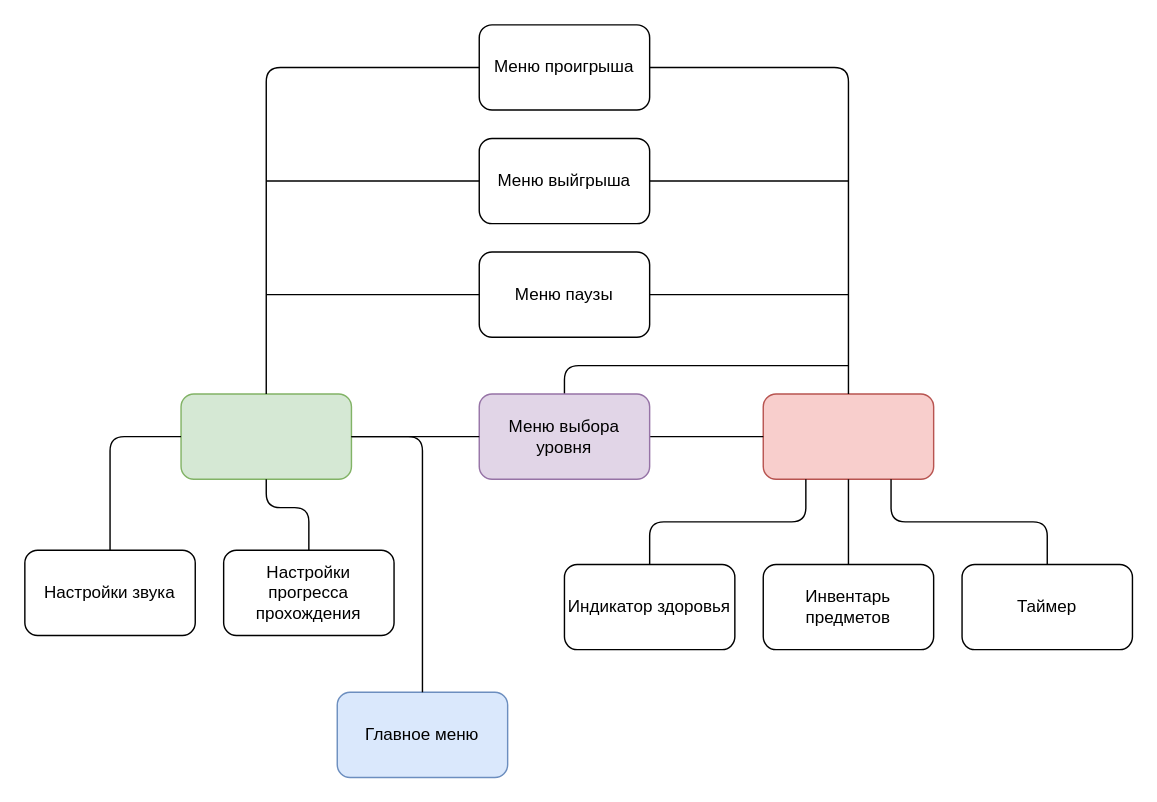
The diagram is 1157 pixels wide and 802 high, and some of its shapes have lost their labels. Here are the shapes that lost their labels. From the top down, the centre of each, then its label:
At (265,436): "Настройки игры".
At (848,436): "Игровое окно".
